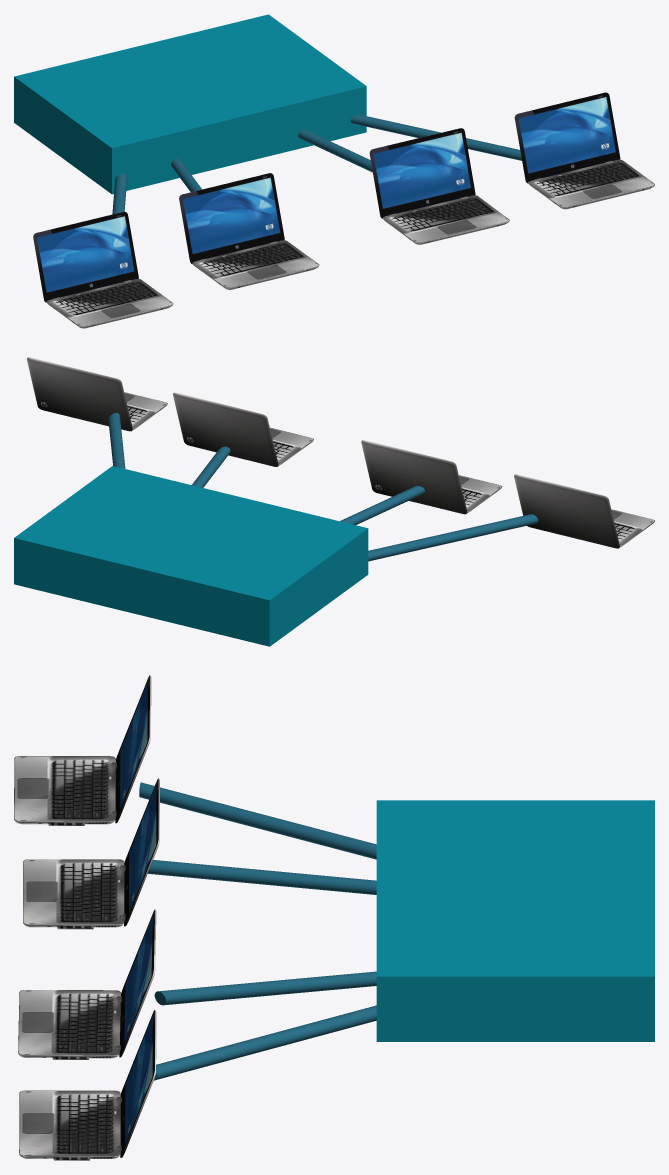
File: Estrella.DAE
The picture shows the model from 3 angles, top to bottom: view 1: azimuth 30°, elevation 25°; view 2: azimuth 150°, elevation 25°; view 3: azimuth 270°, elevation 25°; orthographic projection. The views are drawn at different scales.
Visible parts, largest first — view 1: ChamferBox01, Plane01, Plane02, Plane03, Plane, Cylinder01, Cylinder03, Cylinder04; view 2: ChamferBox01, Plane01, Plane02, Plane03, Plane, Cylinder04, Cylinder02, Cylinder01, Cylinder03; view 3: ChamferBox01, Plane03, Plane, Plane02, Plane01, Cylinder04, Cylinder01, Cylinder02, Cylinder03.
Part boxes in pixels (bbox=[...]): ChamferBox01: bbox=[14, 14, 366, 194]; Plane01: bbox=[369, 128, 509, 244]; Plane02: bbox=[33, 211, 173, 328]; Plane03: bbox=[514, 92, 654, 209]; Plane: bbox=[179, 173, 319, 289]; Cylinder01: bbox=[350, 114, 521, 160]; Cylinder03: bbox=[298, 129, 372, 172]; Cylinder04: bbox=[112, 173, 127, 214]; ChamferBox01: bbox=[14, 466, 368, 646]; Plane01: bbox=[173, 392, 313, 466]; Plane02: bbox=[514, 474, 654, 548]; Plane03: bbox=[27, 357, 167, 431]; Plane: bbox=[361, 440, 502, 514]; Cylinder04: bbox=[368, 514, 538, 561]; Cylinder02: bbox=[340, 486, 424, 524]; Cylinder01: bbox=[108, 413, 125, 468]; Cylinder03: bbox=[192, 446, 230, 487]; ChamferBox01: bbox=[376, 800, 654, 1041]; Plane03: bbox=[19, 1010, 156, 1160]; Plane: bbox=[23, 778, 159, 929]; Plane02: bbox=[14, 675, 151, 825]; Plane01: bbox=[18, 909, 156, 1059]; Cylinder04: bbox=[139, 782, 376, 859]; Cylinder01: bbox=[154, 1005, 376, 1080]; Cylinder02: bbox=[148, 860, 376, 894]; Cylinder03: bbox=[154, 971, 376, 1005].
Bounding box in the file's own units: 7.71 × 5.22 × 0.7951.
Materials: 3 (1 with a texture image).
